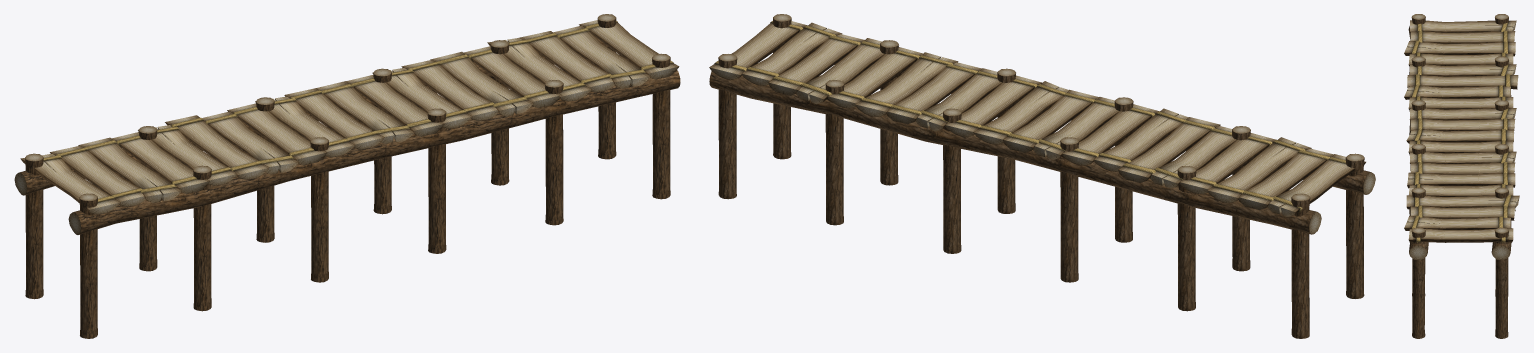
Rendered from WoodPier3.obj.
3 views of the same model, side by side, from view 1: azimuth 30°, elevation 25°; view 2: azimuth 150°, elevation 25°; view 3: azimuth 270°, elevation 25° (orthographic). The views are drawn at different scales.
Parts seen in each view (by area): view 1: Mesh; view 2: Mesh; view 3: Mesh.
Boxes of the visible parts, left/top/right/bottom form: Mesh: left=14, top=14, right=680, bottom=338; Mesh: left=709, top=14, right=1375, bottom=338; Mesh: left=1404, top=14, right=1519, bottom=338.
Bounding box in the file's own units: 14.72 × 3.24 × 3.22.
